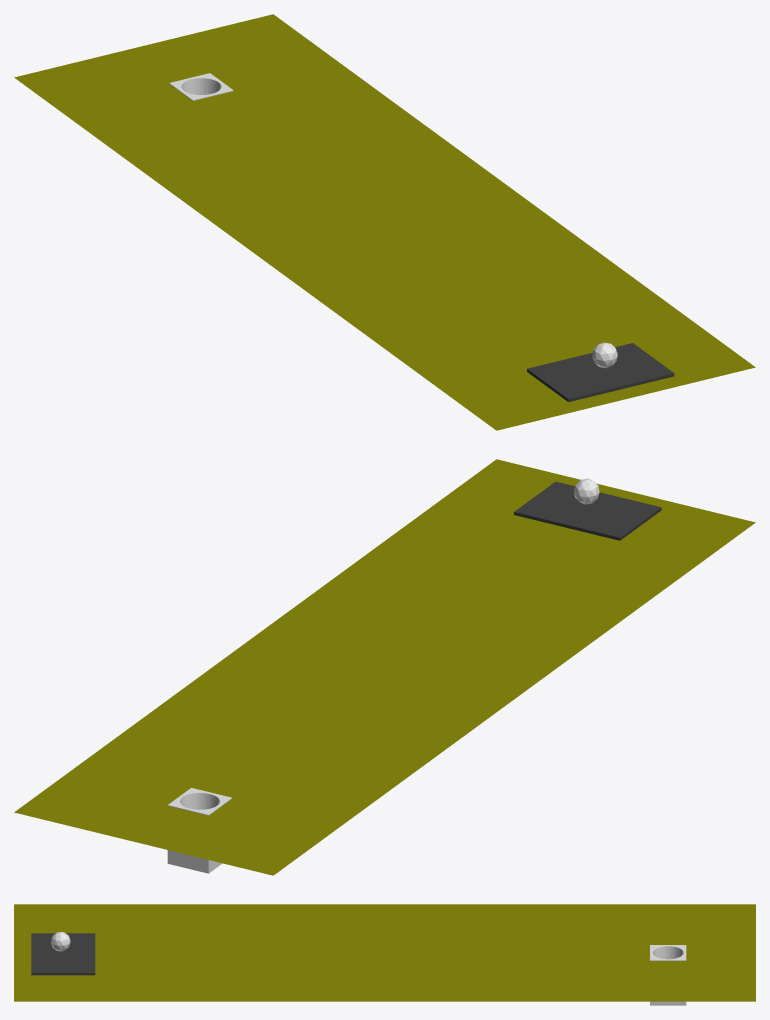
The model's file is boilerplate_level_tutorial.glb.
3 renders of one model, top to bottom at view 1: azimuth 30°, elevation 25°; view 2: azimuth 150°, elevation 25°; view 3: azimuth 270°, elevation 25°, orthographic. The views are drawn at different scales.
Parts seen in each view (by area): view 1: Plane, Start, Cup; view 2: Plane, Start, Cup; view 3: Plane, Start, Cup, Ball.
Part boxes in pixels (<box>): Plane: <box>14,14,755,430</box>; Start: <box>527,343,674,401</box>; Cup: <box>169,73,233,100</box>; Plane: <box>14,459,755,875</box>; Start: <box>514,481,661,540</box>; Cup: <box>167,788,232,873</box>; Plane: <box>14,904,755,1001</box>; Start: <box>31,933,95,975</box>; Cup: <box>650,945,686,1005</box>; Ball: <box>50,932,70,951</box>.
Size of the model in its own units: 19.3 by 6.34 by 62.2.
